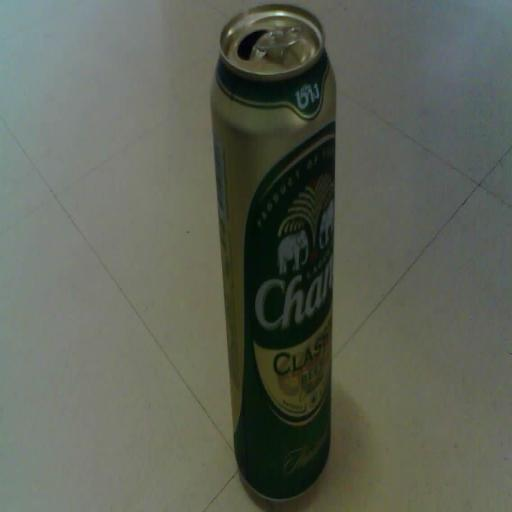canned: (200, 0, 344, 504)
